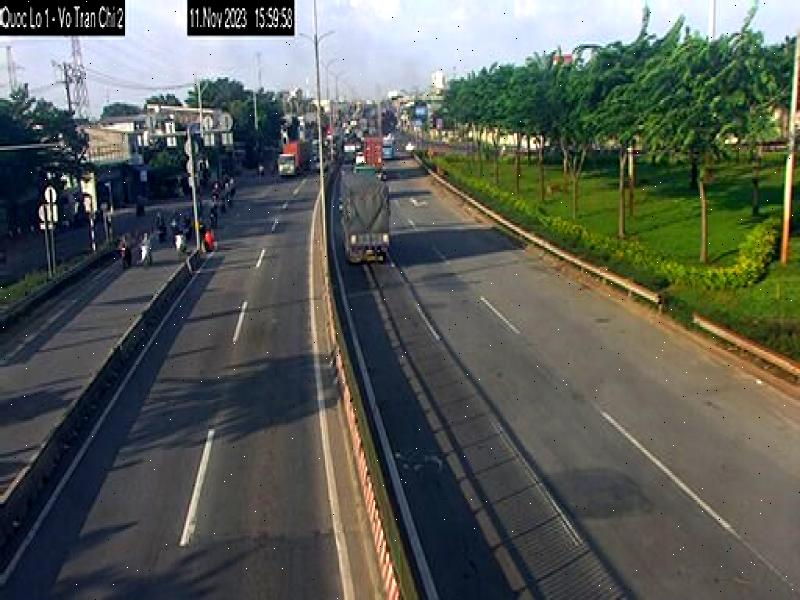truck: (338, 167, 396, 267)
